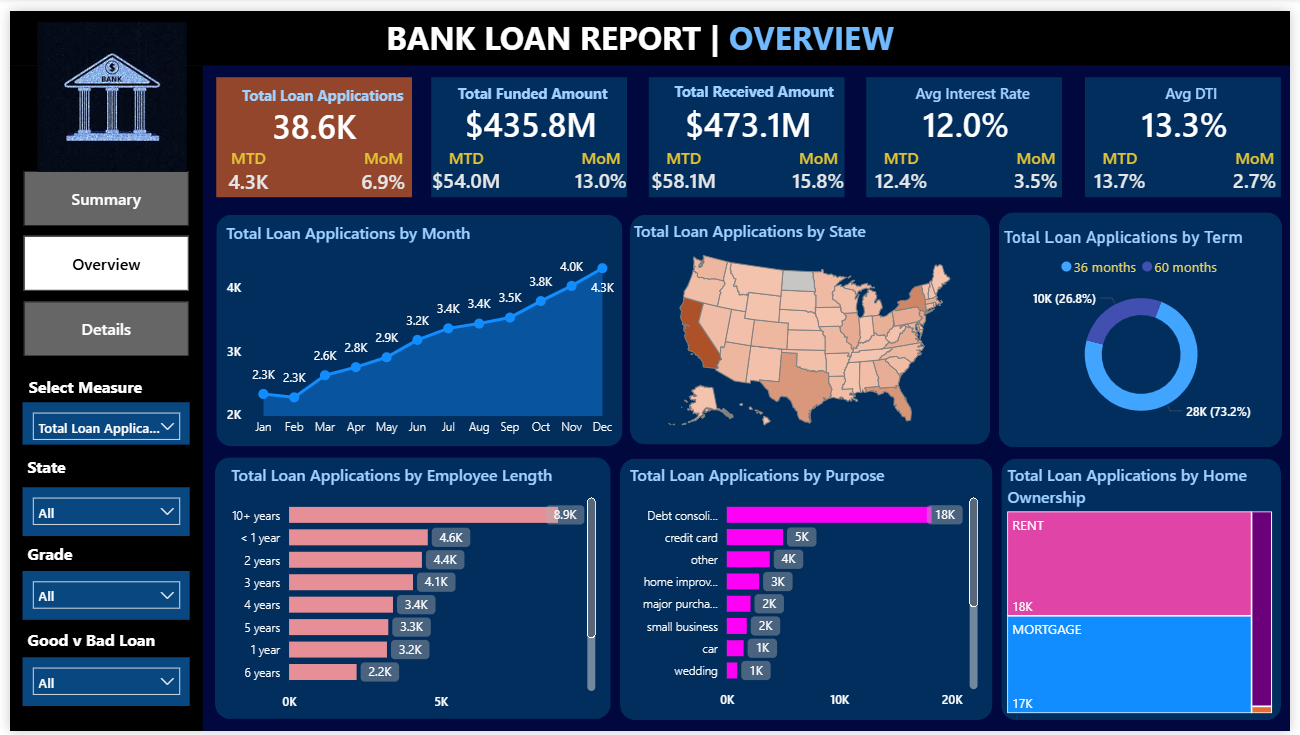

The dashboard page shown, as its layout file describes it:
{"tool":"powerbi","page":{"name":"Overview","canvas":[1280,720],"ordinal":1},"visuals":[{"type":"shape","box":[0,54.5,192.7,665.5],"z":0},{"type":"shape","box":[206.1,66,195.8,120],"z":0,"group":"g1"},{"type":"shape","box":[420.9,66,195.8,120],"z":0,"group":"g2"},{"type":"shape","box":[856.6,66,195.8,120],"z":0,"group":"g4"},{"type":"shape","box":[1074.9,66,195.8,120],"z":0,"group":"g5"},{"type":"shape","box":[638.8,66.1,195.8,120],"z":0,"group":"g3"},{"type":"shape","box":[0,0,1280,54.5],"z":1000},{"type":"card","fields":{"Values":["bank_loan.Total Loan Applications"]},"box":[232.8,89.6,144.2,50.9],"z":1000,"group":"g1"},{"type":"card","fields":{"Values":["bank_loan.Total funded Amount"]},"box":[449.8,92,142.4,42.7],"z":1000,"group":"g2"},{"type":"card","fields":{"Values":["bank_loan.Total amount received"]},"box":[667.7,92,142.4,42.7],"z":1000,"group":"g3"},{"type":"card","fields":{"Values":["bank_loan.Average Interest Rate"]},"box":[885.5,92,142.4,42.7],"z":1000,"group":"g4"},{"type":"card","fields":{"Values":["bank_loan.AVG DTI"]},"box":[1103.8,92,142.4,42.7],"z":1000,"group":"g5"},{"type":"textbox","box":[370.9,0,538.2,56.4],"z":2000},{"type":"textbox","box":[654,64.6,180.6,44.1],"z":2000,"group":"g3"},{"type":"textbox","box":[435.6,67,172.6,40.9],"z":2000,"group":"g2"},{"type":"textbox","box":[876.3,67,172.6,40.9],"z":2000,"group":"g4"},{"type":"textbox","box":[1094.6,67,172.6,40.9],"z":2000,"group":"g5"},{"type":"textbox","box":[218.4,68,187.7,45.5],"z":2000,"group":"g1"},{"type":"shape","box":[205.9,203.9,406.4,231.7],"z":2000,"group":"g6"},{"type":"shape","box":[205,446.3,395.7,262],"z":2000,"group":"g9"},{"type":"group","id":"g1","title":"Group 1","box":[203.7,66,204.5,122.1],"z":3000},{"type":"card","title":"MTD","fields":{"Values":["bank_loan.Month to date Loan App"]},"box":[203.7,134.7,69.4,53.4],"z":3000,"group":"g1"},{"type":"card","title":"MTD","fields":{"Values":["bank_loan.Month to date Funded Ammount"]},"box":[416,134.7,80.1,51.6],"z":3000,"group":"g2"},{"type":"card","title":"MTD","fields":{"Values":["bank_loan.MTD Avg Interest Rate"]},"box":[851.7,134.7,80.1,51.6],"z":3000,"group":"g4"},{"type":"card","title":"MTD","fields":{"Values":["bank_loan.MTD Avg DTI"]},"box":[1070,134.7,80.1,51.6],"z":3000,"group":"g5"},{"type":"card","title":"MTD","fields":{"Values":["bank_loan.Month to date Received Ammount"]},"box":[633.9,134.8,80.1,51.6],"z":3000,"group":"g3"},{"type":"group","id":"g2","title":"Group 1","box":[416,66,210,120.3],"z":4000},{"type":"card","title":"MoM","fields":{"Values":["bank_loan.MOM Loan Applications"]},"box":[338.8,134.7,69.4,53.4],"z":4000,"group":"g1"},{"type":"card","title":"MoM","fields":{"Values":["bank_loan.MOM Funded Amount"]},"box":[556.6,134.7,69.4,51.6],"z":4000,"group":"g2"},{"type":"card","title":"MoM","fields":{"Values":["bank_loan.MOM Interest Rate"]},"box":[992.3,134.7,69.4,51.6],"z":4000,"group":"g4"},{"type":"card","title":"MoM","fields":{"Values":["bank_loan.MOM Avg DTI Rate"]},"box":[1210.6,134.7,69.4,51.6],"z":4000,"group":"g5"},{"type":"card","title":"MoM","fields":{"Values":["bank_loan.MOM Received Amount"]},"box":[774.5,134.8,69.4,51.6],"z":4000,"group":"g3"},{"type":"group","id":"g3","title":"Group 1","box":[633.9,64.6,210,121.8],"z":5000},{"type":"group","id":"g4","title":"Group 1","box":[851.7,66,210,120.3],"z":6000},{"type":"group","id":"g5","title":"Group 1","box":[1070,66,210,120],"z":7000},{"type":"slicer","fields":{"Values":["bank_loan.address_state"]},"box":[12.5,476.8,167.3,49.1],"z":8000},{"type":"textbox","box":[12.5,440,68.3,38.4],"z":9000},{"type":"slicer","fields":{"Values":["bank_loan.grade"]},"box":[12.5,560.4,167.3,49.1],"z":10000},{"type":"textbox","box":[12.5,525.8,69.1,38.2],"z":11000},{"type":"slicer","fields":{"Values":["bank_loan.Good Vs Bad Loan"]},"box":[12.4,646.7,167.3,49.1],"z":12000},{"type":"textbox","box":[12.2,613.1,167.5,37.4],"z":13000},{"type":"slicer","fields":{"Values":["Select Measure.Select Measure"]},"box":[12.5,391.9,167.5,42.8],"z":14000},{"type":"areaChart","fields":{"Y":["bank_loan.Total Loan Applications"],"Category":["Date Table.Month"]},"box":[210.3,210.3,398.7,224.3],"z":15000,"group":"g6"},{"type":"textbox","box":[14.3,360,137.2,39.2],"z":15000},{"type":"shape","box":[619.3,203.2,360,229.9],"z":16000,"group":"g7"},{"type":"group","id":"g6","title":"Group 2","box":[205.9,203.9,406.4,231.7],"z":16000},{"type":"shape","box":[609.5,447.3,372.5,261.6],"z":16000,"group":"g11"},{"type":"group","id":"g7","title":"Group 3","box":[618.4,203.2,361.8,229.9],"z":17000},{"type":"shapeMap","fields":{"Value":["bank_loan.Total Loan Applications"],"Category":["bank_loan.address_state"]},"box":[618.4,208.7,361.8,219.8],"z":17000,"group":"g7"},{"type":"group","id":"g8","title":"Group 4","box":[988.9,201.1,285.4,235.3],"z":18000},{"type":"shape","box":[988.9,201.1,283.4,235.3],"z":18000,"group":"g8"},{"type":"donutChart","fields":{"Y":["bank_loan.Total Loan Applications"],"Category":["bank_loan.term"]},"box":[989.2,216.5,285.2,205.8],"z":19000,"group":"g8"},{"type":"shape","box":[990.9,447.3,279.8,262],"z":19000},{"type":"group","id":"g9","title":"Group 2","box":[205,446.3,395.7,262],"z":20000},{"type":"barChart","fields":{"Y":["bank_loan.Total Loan Applications"],"Category":["bank_loan.emp_length"]},"box":[215.7,452.7,374.3,256.6],"z":21000},{"type":"group","id":"g10","title":"Group 5","box":[609.5,447.3,370.7,262],"z":22000},{"type":"group","id":"g11","title":"Group 3","box":[609.5,447.3,370.7,262],"z":22000,"group":"g10"},{"type":"barChart","fields":{"Y":["bank_loan.Total Loan Applications"],"Category":["bank_loan.purpose"]},"box":[615,452.6,357.9,254.9],"z":23000,"group":"g10"},{"type":"treemap","fields":{"Values":["bank_loan.Total Loan Applications"],"Group":["bank_loan.home_ownership"]},"box":[992.7,452.7,274.5,254.9],"z":23000},{"type":"pageNavigator","box":[14.3,160.4,165.8,185.4],"z":24000},{"type":"image","box":[10.7,10.7,181.8,149.7],"z":25000}]}

Visuals, with their boxes in screenshot pixels (x1, y1, x2, y2), scaled from the page's 1280x720 canvas onto the 1300x735 screenshot:
shape: box=[0, 56, 196, 734]
shape: box=[209, 67, 408, 190]
shape: box=[427, 67, 626, 190]
shape: box=[870, 67, 1069, 190]
shape: box=[1092, 67, 1291, 190]
shape: box=[649, 67, 848, 190]
shape: box=[0, 0, 1299, 56]
card - bank_loan.Total Loan Applications: box=[236, 91, 383, 143]
card - bank_loan.Total funded Amount: box=[457, 94, 601, 138]
card - bank_loan.Total amount received: box=[678, 94, 823, 138]
card - bank_loan.Average Interest Rate: box=[899, 94, 1044, 138]
card - bank_loan.AVG DTI: box=[1121, 94, 1266, 138]
textbox: box=[377, 0, 923, 58]
textbox: box=[664, 66, 848, 111]
textbox: box=[442, 68, 618, 110]
textbox: box=[890, 68, 1065, 110]
textbox: box=[1112, 68, 1287, 110]
textbox: box=[222, 69, 412, 116]
shape: box=[209, 208, 622, 445]
shape: box=[208, 456, 610, 723]
"Group 1" group: box=[207, 67, 415, 192]
"MTD" card: box=[207, 138, 277, 192]
"MTD" card: box=[422, 138, 504, 190]
"MTD" card: box=[865, 138, 946, 190]
"MTD" card: box=[1087, 138, 1168, 190]
"MTD" card: box=[644, 138, 725, 190]
"Group 1" group: box=[422, 67, 636, 190]
"MoM" card: box=[344, 138, 415, 192]
"MoM" card: box=[565, 138, 636, 190]
"MoM" card: box=[1008, 138, 1078, 190]
"MoM" card: box=[1230, 138, 1299, 190]
"MoM" card: box=[787, 138, 857, 190]
"Group 1" group: box=[644, 66, 857, 190]
"Group 1" group: box=[865, 67, 1078, 190]
"Group 1" group: box=[1087, 67, 1299, 190]
slicer - bank_loan.address_state: box=[13, 487, 183, 537]
textbox: box=[13, 449, 82, 488]
slicer - bank_loan.grade: box=[13, 572, 183, 622]
textbox: box=[13, 537, 83, 576]
slicer - bank_loan.Good Vs Bad Loan: box=[13, 660, 183, 710]
textbox: box=[12, 626, 183, 664]
slicer - Select Measure.Select Measure: box=[13, 400, 183, 444]
areaChart - bank_loan.Total Loan Applications x Date Table.Month: box=[214, 215, 619, 444]
textbox: box=[15, 368, 154, 408]
shape: box=[629, 207, 995, 442]
"Group 2" group: box=[209, 208, 622, 445]
shape: box=[619, 457, 997, 724]
"Group 3" group: box=[628, 207, 996, 442]
shapeMap - bank_loan.Total Loan Applications x bank_loan.address_state: box=[628, 213, 996, 437]
"Group 4" group: box=[1004, 205, 1294, 445]
shape: box=[1004, 205, 1292, 445]
donutChart - bank_loan.Total Loan Applications x bank_loan.term: box=[1005, 221, 1294, 431]
shape: box=[1006, 457, 1291, 724]
"Group 2" group: box=[208, 456, 610, 723]
barChart - bank_loan.Total Loan Applications x bank_loan.emp_length: box=[219, 462, 599, 724]
"Group 5" group: box=[619, 457, 996, 724]
"Group 3" group: box=[619, 457, 996, 724]
barChart - bank_loan.Total Loan Applications x bank_loan.purpose: box=[625, 462, 988, 722]
treemap - bank_loan.Total Loan Applications x bank_loan.home_ownership: box=[1008, 462, 1287, 722]
pageNavigator: box=[15, 164, 183, 353]
image: box=[11, 11, 196, 164]
